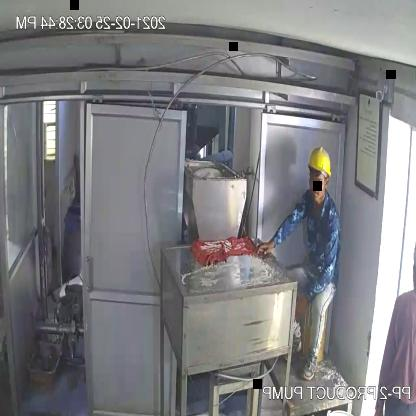helmet: (306, 140, 336, 186)
